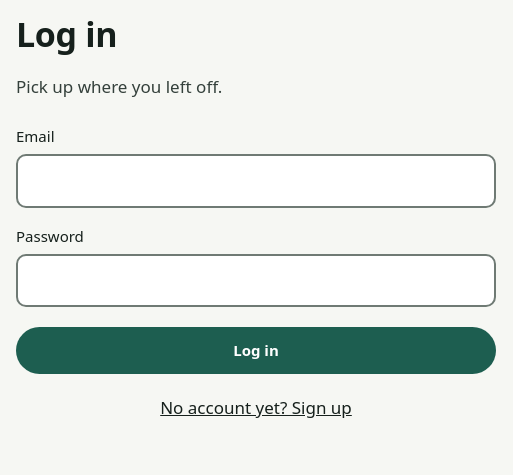
Scenario: Login page › shows the server message for wrong credentials
Type "sara@example.com" into the field labelled "Email" at (256, 181), box x1=16 y1=154 x2=496 y2=208
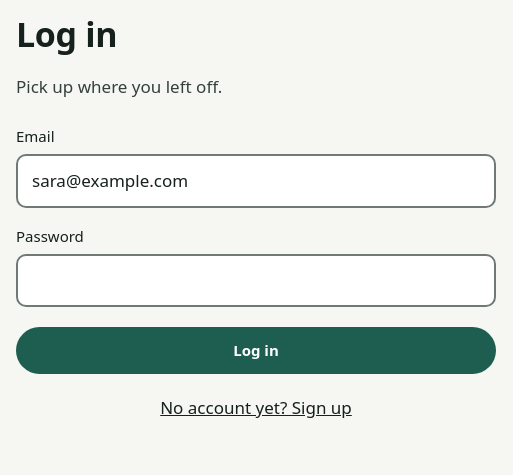
Type "wrongpass" into the password field labelled "Password" at (256, 280), box x1=16 y1=254 x2=496 y2=307
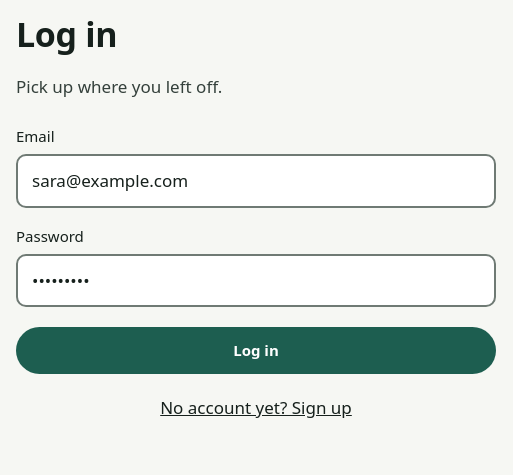
Click the button "Log in" at (256, 351), box x1=16 y1=327 x2=496 y2=374
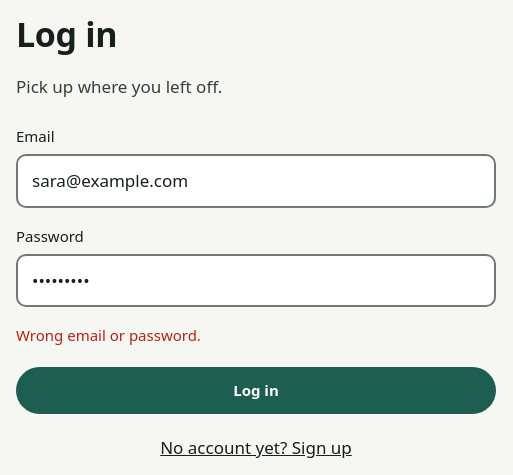
expect the text "Wrong email or password." is shown: met, box x1=16 y1=325 x2=201 y2=345
